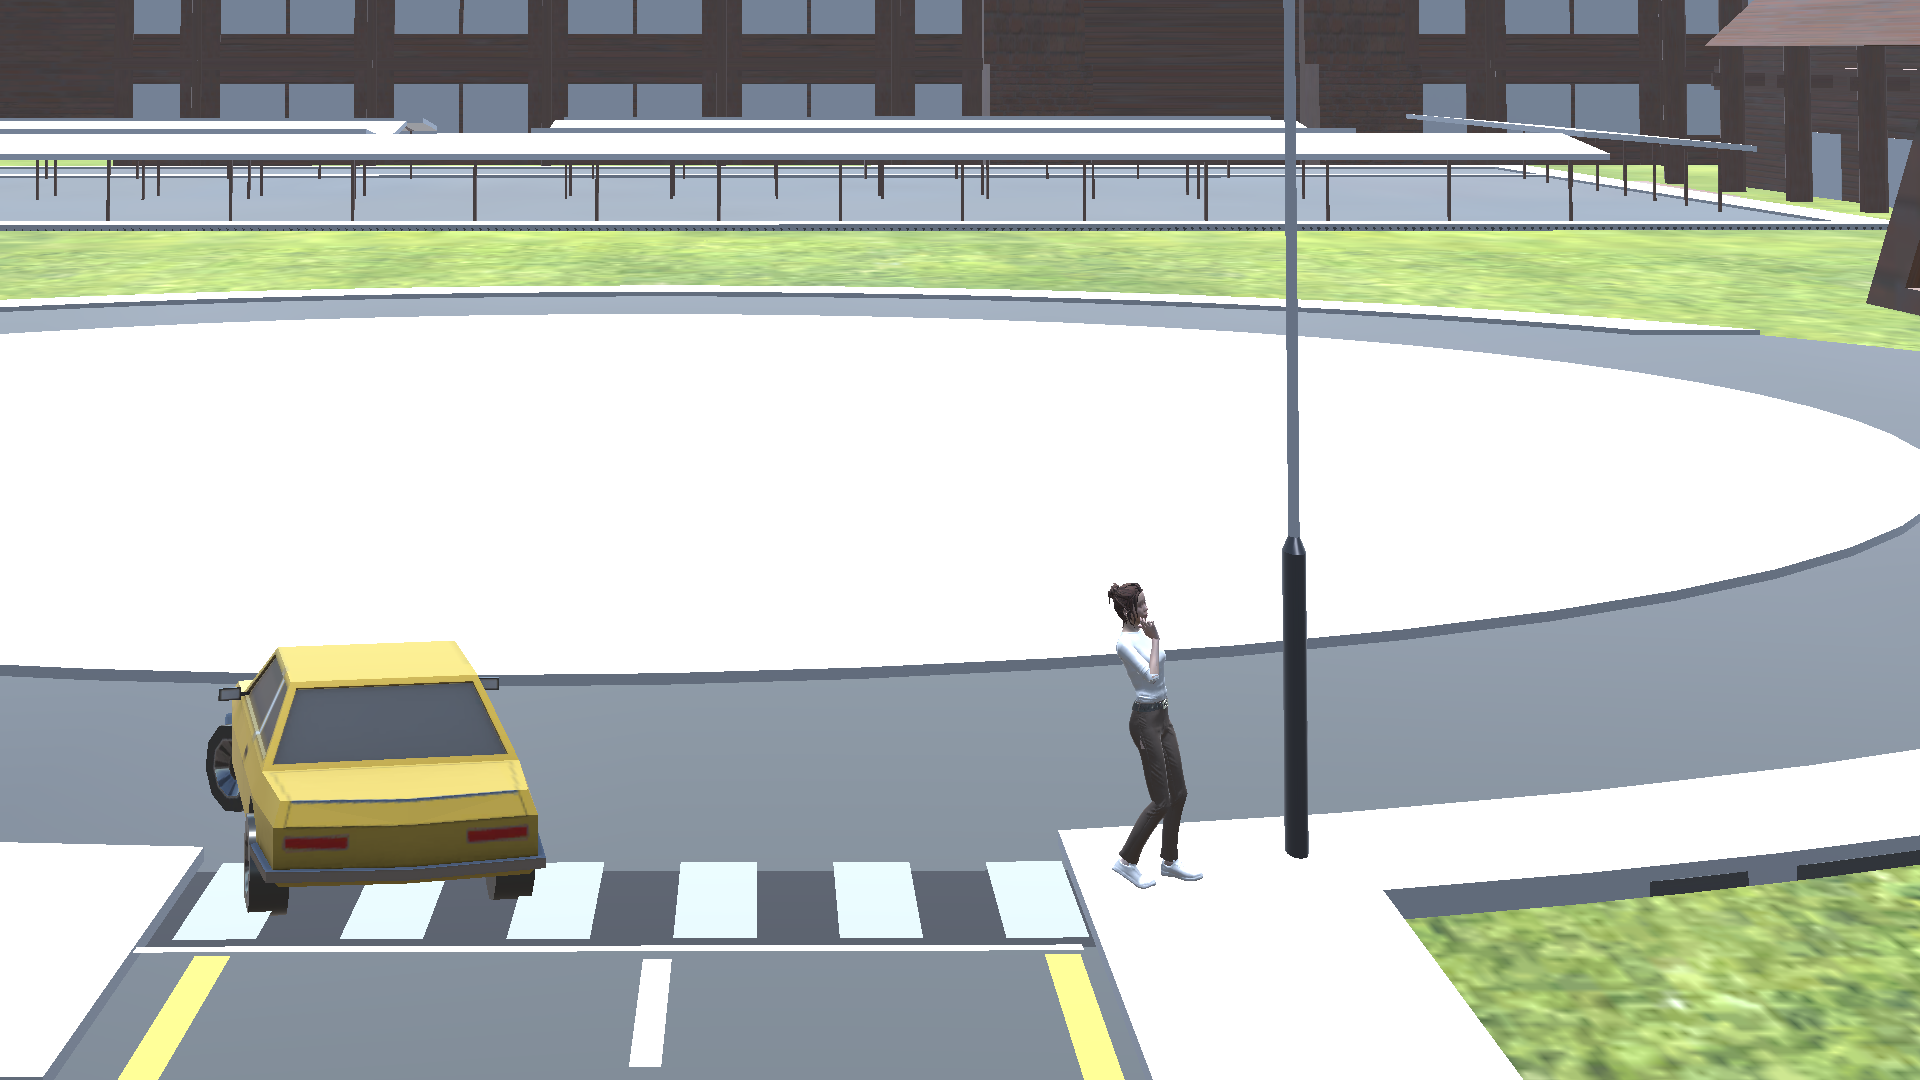pedestrian: (1092, 575, 1220, 894)
